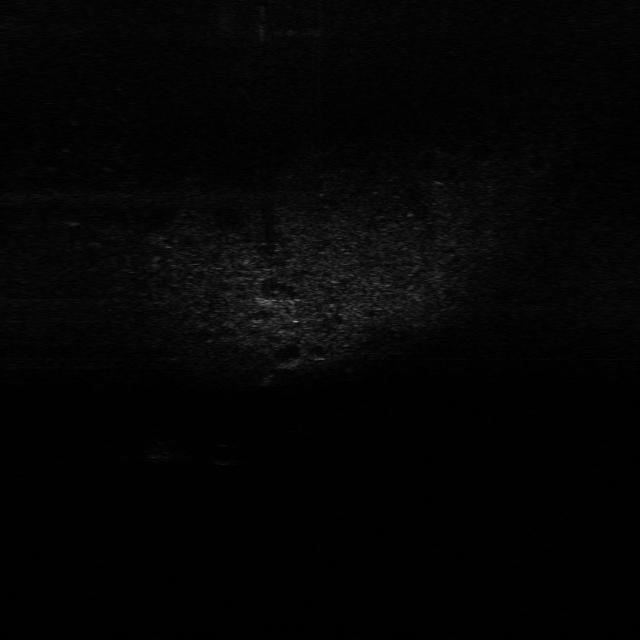ball: (207, 437, 244, 469)
circle cage: (144, 431, 178, 467)
cylinder: (252, 366, 276, 391)
